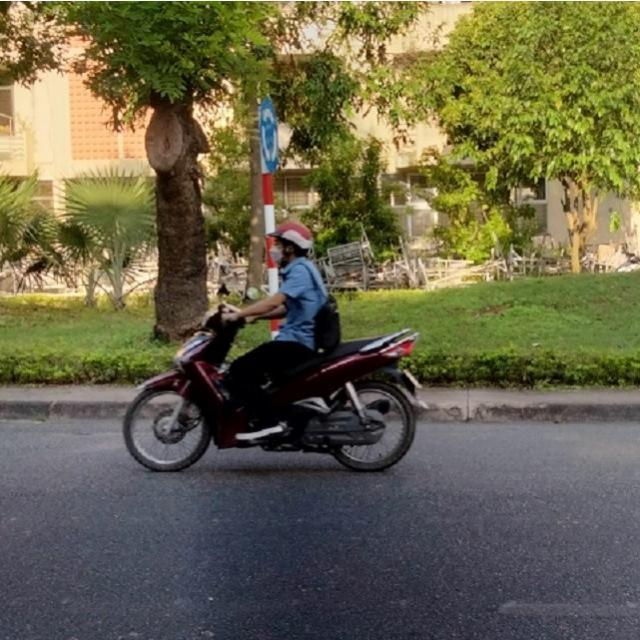Helmet: (266, 222, 314, 264)
